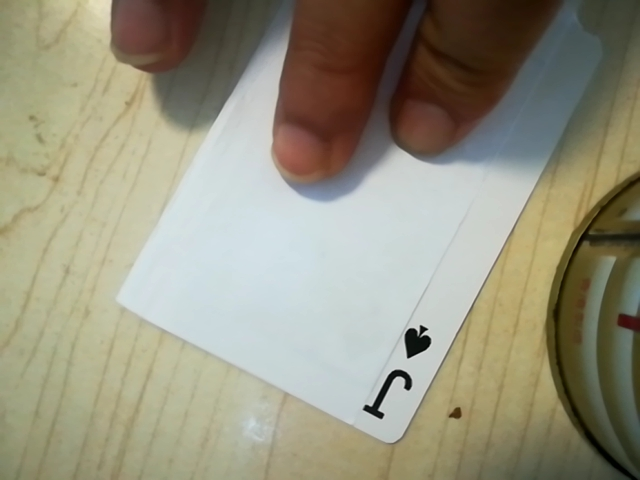ht j: (358, 307, 445, 430)
